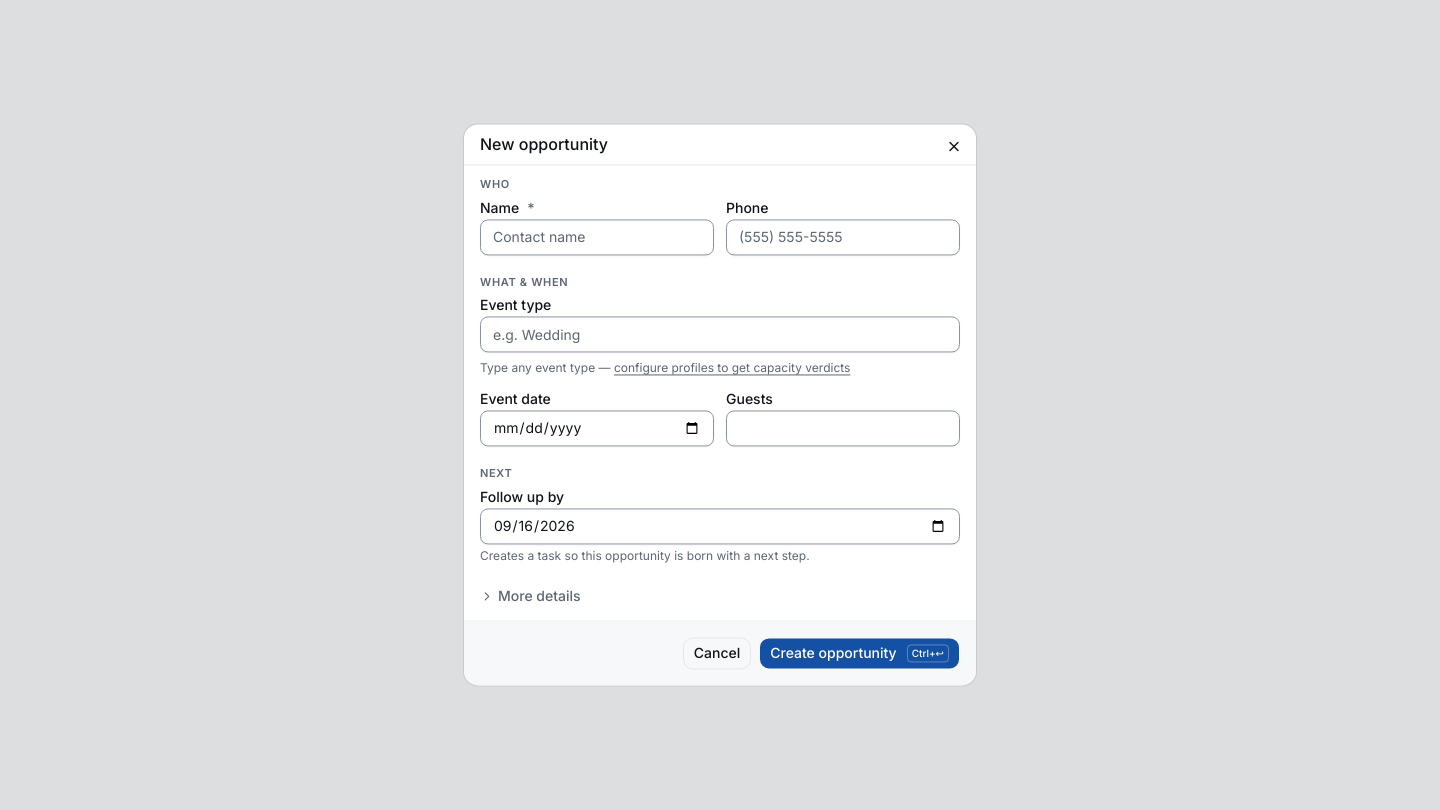
Test: NewOpportunityForm › save and create another (Cmd/Ctrl+Shift+Enter) › reports stayedOpen: true and announces the create in its own live region
The image size is (1440, 810).
Type "Jane Doe" into the field labelled "Name".
click(597, 237); type("Jane Doe")  # box [480,219,714,255]
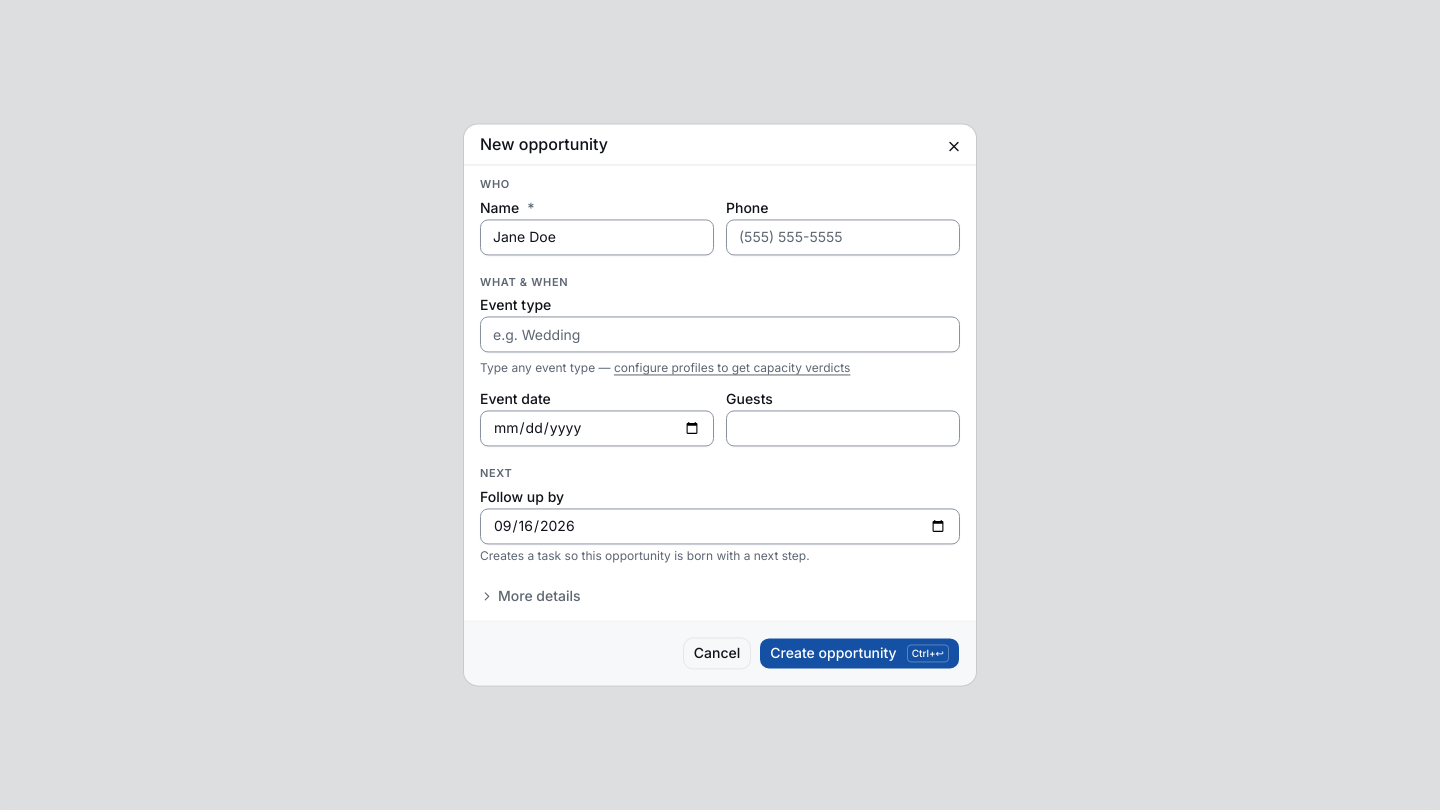
Press Enter in the field labelled "Name", box [480,219,714,255]
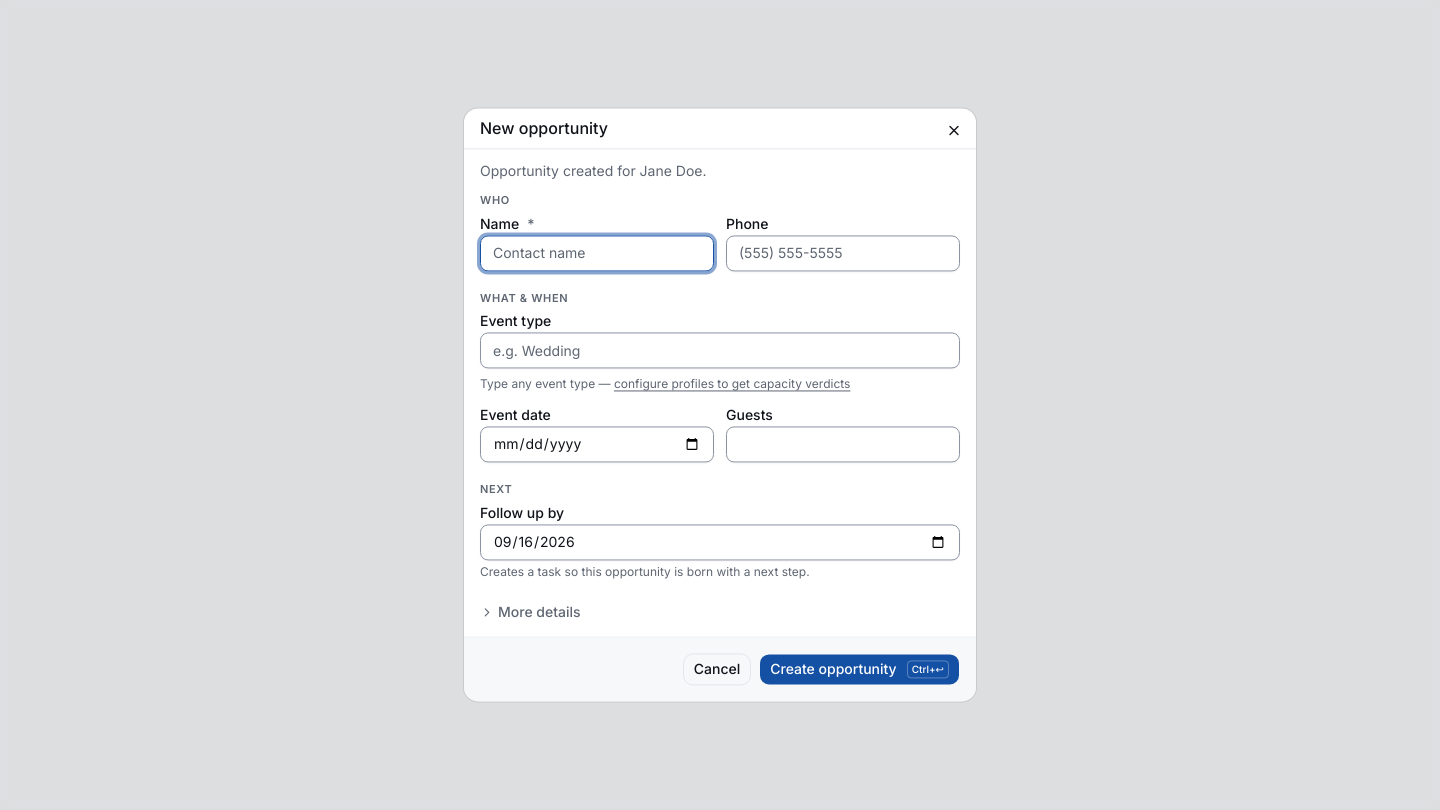
expect the text "Opportunity created for Jane Doe." is shown: met, box [480,162,706,179]
